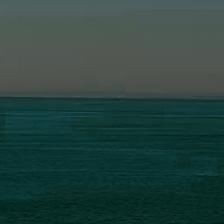surfer: (170, 222, 175, 224)
